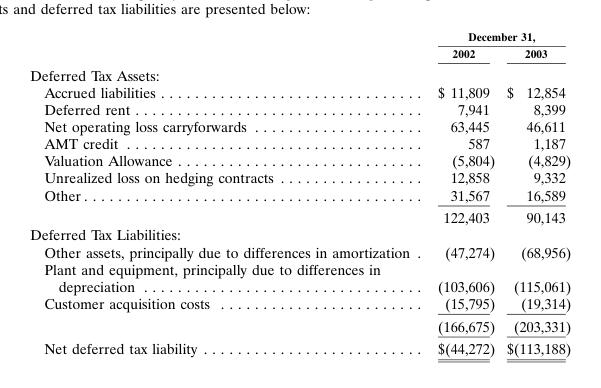table: (29, 29, 570, 357)
table column: (29, 29, 423, 357), (423, 29, 500, 357), (500, 29, 570, 357)
table column header: (29, 29, 570, 63)
table projected row header: (29, 63, 570, 83), (29, 225, 570, 242)
table row: (29, 260, 570, 294), (29, 314, 570, 336), (29, 336, 570, 357), (29, 63, 570, 83), (29, 185, 570, 205), (29, 205, 570, 225), (29, 294, 570, 314), (29, 44, 570, 63), (29, 242, 570, 260), (29, 83, 570, 100), (29, 100, 570, 117), (29, 117, 570, 134), (29, 134, 570, 151), (29, 151, 570, 168), (29, 168, 570, 185), (29, 225, 570, 242), (29, 29, 570, 44)
table spanning cell: (423, 29, 570, 44)
